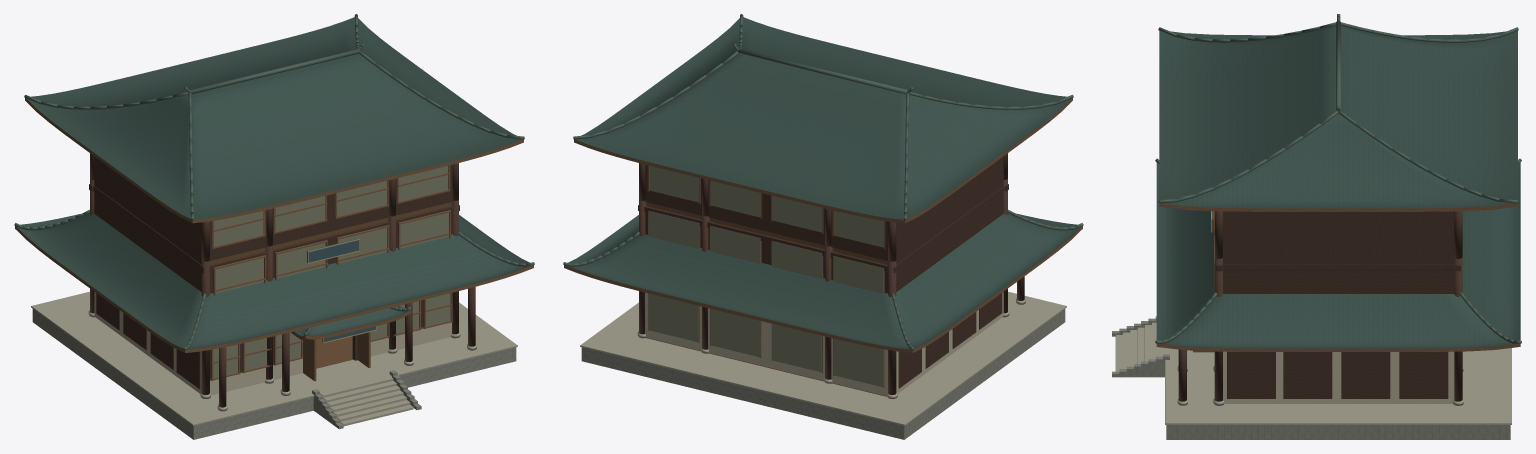
File: scripture_pavilion_lod.glb
3 renders of one model, left to right at view 1: azimuth 30°, elevation 25°; view 2: azimuth 150°, elevation 25°; view 3: azimuth 270°, elevation 25°, orthographic. The views are drawn at different scales.
Parts seen in each view (by area): view 1: LOD_Scripture_JadeTile, LOD_Scripture_Timber, LOD_Scripture_Coping, LOD_Scripture_Window, LOD_Scripture_CarvedWood, LOD_Scripture_Stone, LOD_Scripture_TileEdge, LOD_Scripture_Plaster, LOD_Scripture_Floor, LOD_Scripture_Indigo; view 2: LOD_Scripture_JadeTile, LOD_Scripture_Window, LOD_Scripture_Timber, LOD_Scripture_Coping, LOD_Scripture_Stone, LOD_Scripture_CarvedWood, LOD_Scripture_Plaster, LOD_Scripture_TileEdge, LOD_Scripture_Floor; view 3: LOD_Scripture_JadeTile, LOD_Scripture_Timber, LOD_Scripture_Coping, LOD_Scripture_Stone, LOD_Scripture_TileEdge, LOD_Scripture_CarvedWood, LOD_Scripture_Plaster.
Part boxes in pixels (<box>): LOD_Scripture_JadeTile: <box>16,17,531,349</box>; LOD_Scripture_Timber: <box>89,153,475,407</box>; LOD_Scripture_Coping: <box>31,291,517,426</box>; LOD_Scripture_Window: <box>213,166,450,378</box>; LOD_Scripture_CarvedWood: <box>15,98,533,381</box>; LOD_Scripture_Stone: <box>32,309,516,439</box>; LOD_Scripture_TileEdge: <box>14,14,534,349</box>; LOD_Scripture_Plaster: <box>94,292,451,395</box>; LOD_Scripture_Floor: <box>210,202,451,368</box>; LOD_Scripture_Indigo: <box>307,238,375,342</box>; LOD_Scripture_JadeTile: <box>566,17,1081,349</box>; LOD_Scripture_Window: <box>648,166,883,386</box>; LOD_Scripture_Timber: <box>638,153,1024,394</box>; LOD_Scripture_Coping: <box>580,291,1066,425</box>; LOD_Scripture_Stone: <box>581,309,1065,439</box>; LOD_Scripture_CarvedWood: <box>564,98,1082,387</box>; LOD_Scripture_Plaster: <box>645,292,1003,395</box>; LOD_Scripture_TileEdge: <box>563,14,1083,349</box>; LOD_Scripture_Floor: <box>645,202,887,396</box>; LOD_Scripture_JadeTile: <box>1156,25,1520,348</box>; LOD_Scripture_Timber: <box>1178,211,1462,401</box>; LOD_Scripture_Coping: <box>1115,322,1511,424</box>; LOD_Scripture_Stone: <box>1112,316,1510,439</box>; LOD_Scripture_TileEdge: <box>1155,14,1521,343</box>; LOD_Scripture_CarvedWood: <box>1156,203,1520,352</box>; LOD_Scripture_Plaster: <box>1223,351,1454,403</box>.
Size of the model in its own units: 23.94 by 18.02 by 22.62.
Materials: 11 (7 with a texture image).
